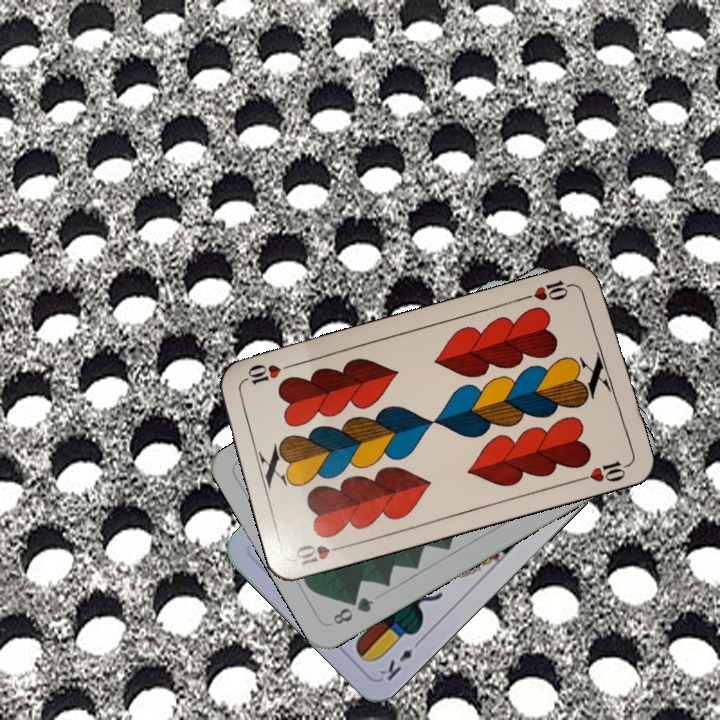EK: (375, 634, 425, 684)
G8: (328, 592, 377, 628)
H10: (290, 540, 350, 569), (519, 276, 578, 304)
